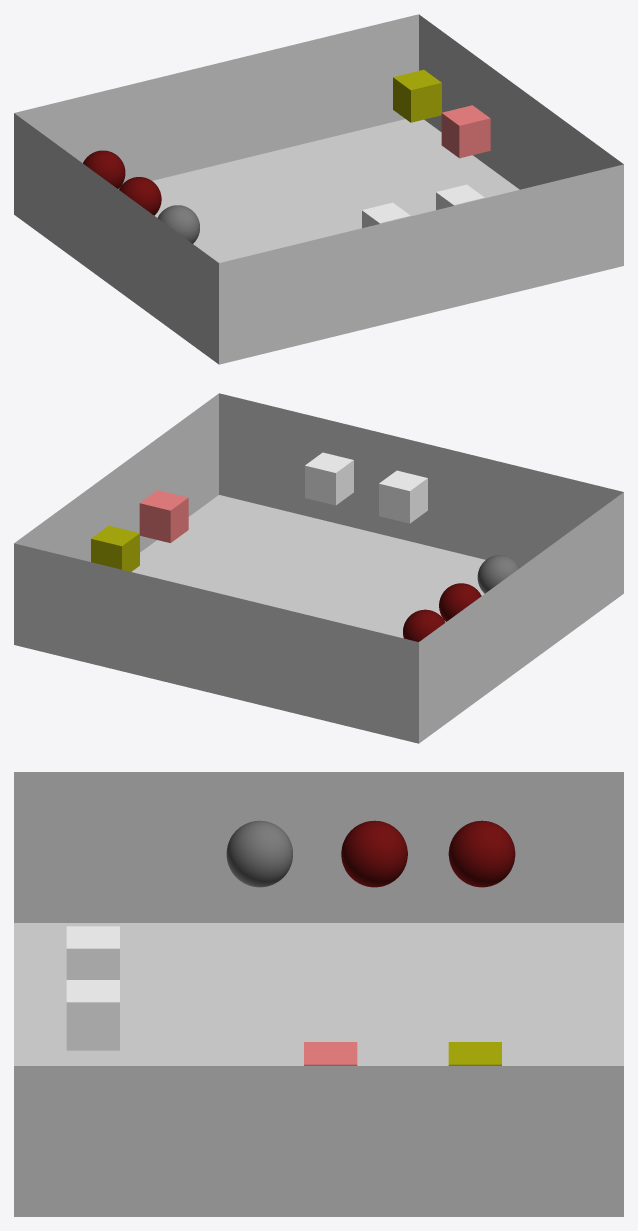
Rendered from SandboxVray.FBX.
3 renders of one model, top to bottom at view 1: azimuth 30°, elevation 25°; view 2: azimuth 150°, elevation 25°; view 3: azimuth 270°, elevation 25°, orthographic. The views are drawn at different scales.
Parts seen in each view (by area): view 1: Box001, Box_003, Box_004, Sphere007, Sphere008, Sphere009, Box_002, Box_001; view 2: Box001, Box_003, Box_001, Box_002, Box_004, Sphere009, Sphere008, Sphere007; view 3: Box001, Box_001, Sphere007, Sphere009, Sphere008, Box_002, Box_003, Box_004.
Boxes of the visible parts, x1,y1,x2,y2 form: Box001: (14,14,623,364); Box_003: (441,105,490,158); Box_004: (393,69,441,122); Sphere007: (83,150,125,188); Sphere008: (119,177,161,215); Sphere009: (157,205,199,243); Box_002: (362,202,410,228); Box_001: (436,184,484,209); Box001: (14,393,623,743); Box_003: (139,490,188,542); Box_001: (305,452,353,505); Box_002: (379,470,427,523); Box_004: (91,525,139,571); Sphere009: (477,555,519,593); Sphere008: (439,583,481,621); Sphere007: (403,609,445,641); Box001: (14,772,623,1216); Box_001: (66,980,119,1050); Sphere007: (448,820,515,887); Sphere009: (226,820,292,887); Sphere008: (341,820,407,887); Box_002: (66,926,119,979); Box_003: (304,1042,357,1065); Box_004: (448,1042,501,1065).
Bounding box in the file's own units: 1043 × 250 × 915.
